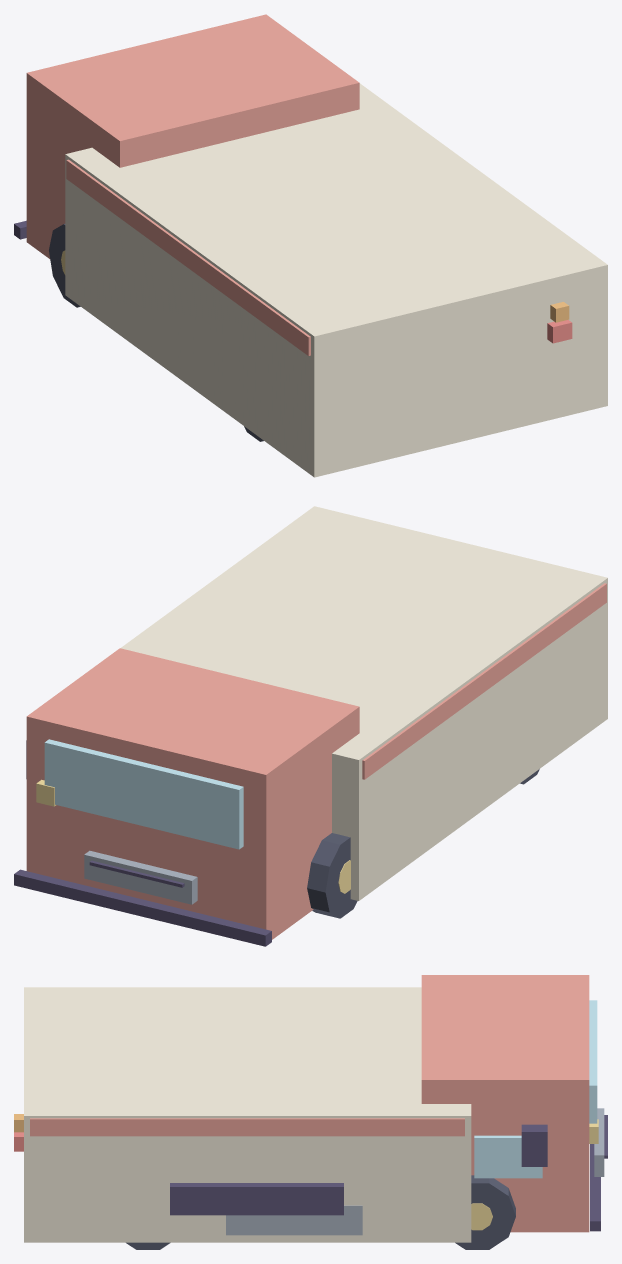
File: player_truck_lod1.glb
3 renders of one model, top to bottom at view 1: azimuth 30°, elevation 25°; view 2: azimuth 150°, elevation 25°; view 3: azimuth 270°, elevation 25°, orthographic. The views are drawn at different scales.
Visible parts, largest first — view 1: Trailer_Body, Cab_Body, Trailer_Stripe, Wheel_1; view 2: Trailer_Body, Cab_Body, Windshield, Trailer_Stripe, Front_Bumper, Front_Grille, Wheel_1; view 3: Trailer_Body, Cab_Body, Trailer_Stripe, Trailer_Side_Outline, Fuel_Tank, Wheel_2, Cab_Side_Window, Mirror, Windshield, Front_Bumper, Front_Grille, Hub_2.
Boxes of the visible parts, bbox=[...] form: Trailer_Body: bbox=[65, 83, 607, 477]; Cab_Body: bbox=[26, 14, 359, 258]; Trailer_Stripe: bbox=[66, 159, 310, 355]; Wheel_1: bbox=[49, 224, 80, 307]; Trailer_Body: bbox=[120, 506, 607, 900]; Cab_Body: bbox=[26, 648, 359, 939]; Windshield: bbox=[44, 739, 243, 849]; Trailer_Stripe: bbox=[362, 583, 606, 779]; Front_Bumper: bbox=[14, 869, 271, 946]; Front_Grille: bbox=[84, 850, 197, 904]; Wheel_1: bbox=[307, 833, 357, 918]; Trailer_Body: bbox=[24, 987, 471, 1242]; Cab_Body: bbox=[421, 975, 589, 1232]; Trailer_Stripe: bbox=[30, 1118, 464, 1136]; Trailer_Side_Outline: bbox=[170, 1183, 343, 1215]; Fuel_Tank: bbox=[226, 1205, 362, 1235]; Wheel_2: bbox=[455, 1175, 515, 1249]; Cab_Side_Window: bbox=[474, 1135, 542, 1178]; Mirror: bbox=[521, 1124, 547, 1166]; Windshield: bbox=[589, 1000, 597, 1123]; Front_Bumper: bbox=[590, 1144, 600, 1231]; Front_Grille: bbox=[594, 1108, 604, 1176]; Hub_2: bbox=[471, 1203, 492, 1230].
Bounding box in the file's own units: 5.13 × 2.87 × 9.56.
